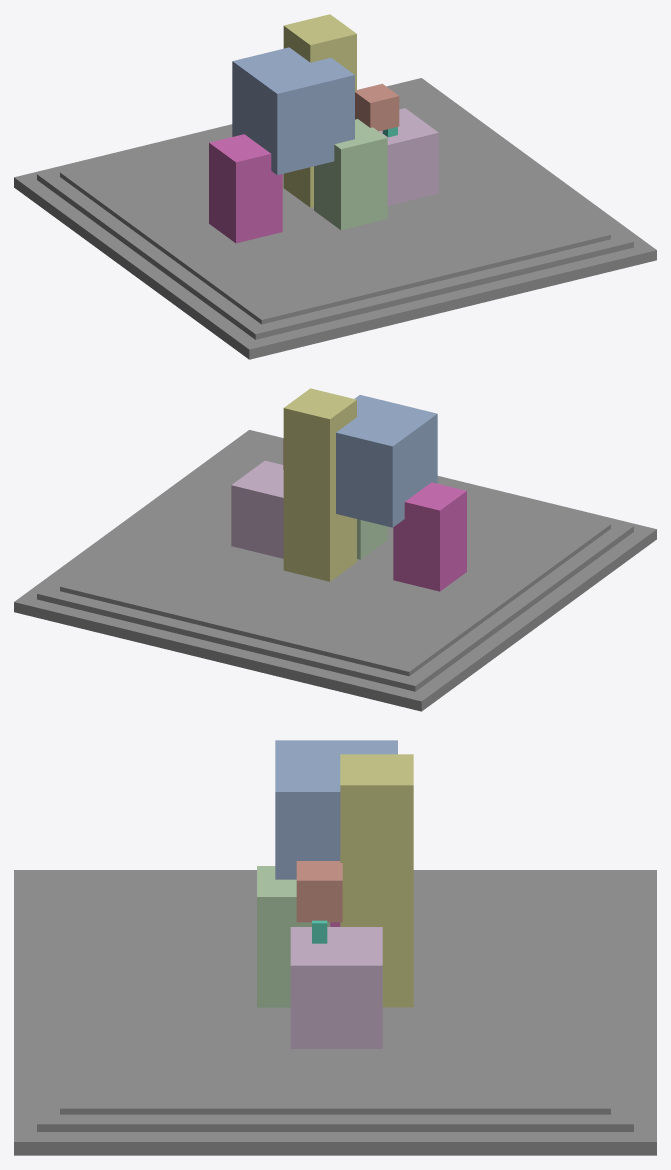
File: Statue.fbx
The picture shows the model from 3 angles, top to bottom: view 1: azimuth 30°, elevation 25°; view 2: azimuth 150°, elevation 25°; view 3: azimuth 270°, elevation 25°; orthographic projection. The views are drawn at different scales.
Visible parts, largest first — view 1: Cube, Cube.005, Cube.006, Cube.002, Cube.008, Cube.001, Cube.007, Cube.004, Cube.003; view 2: Cube, Cube.005, Cube.006, Cube.004, Cube.002, Cube.008, Cube.007, Cube.001; view 3: Cube, Cube.005, Cube.006, Cube.004, Cube.007, Cube.002, Cube.001, Cube.003.
Part boxes in pixels (<box>): Cube: <box>60,87,610,324</box>; Cube.005: <box>14,78,656,359</box>; Cube.006: <box>37,82,633,339</box>; Cube.002: <box>232,47,354,174</box>; Cube.008: <box>209,134,282,243</box>; Cube.001: <box>314,119,387,230</box>; Cube.007: <box>379,108,438,205</box>; Cube.004: <box>283,14,356,207</box>; Cube.003: <box>355,83,399,131</box>; Cube: <box>60,439,610,676</box>; Cube.005: <box>14,430,656,711</box>; Cube.006: <box>37,434,633,691</box>; Cube.004: <box>283,388,356,581</box>; Cube.002: <box>336,395,437,527</box>; Cube.008: <box>393,482,466,591</box>; Cube.007: <box>231,460,283,558</box>; Cube.001: <box>357,519,387,559</box>; Cube: <box>60,875,610,1114</box>; Cube.005: <box>14,870,656,1155</box>; Cube.006: <box>37,872,633,1131</box>; Cube.004: <box>340,754,413,1007</box>; Cube.007: <box>290,927,382,1048</box>; Cube.002: <box>275,740,397,879</box>; Cube.001: <box>257,866,330,1007</box>; Cube.003: <box>296,861,342,922</box>.
Bounding box in the file's own units: 1050 × 451 × 1050.
